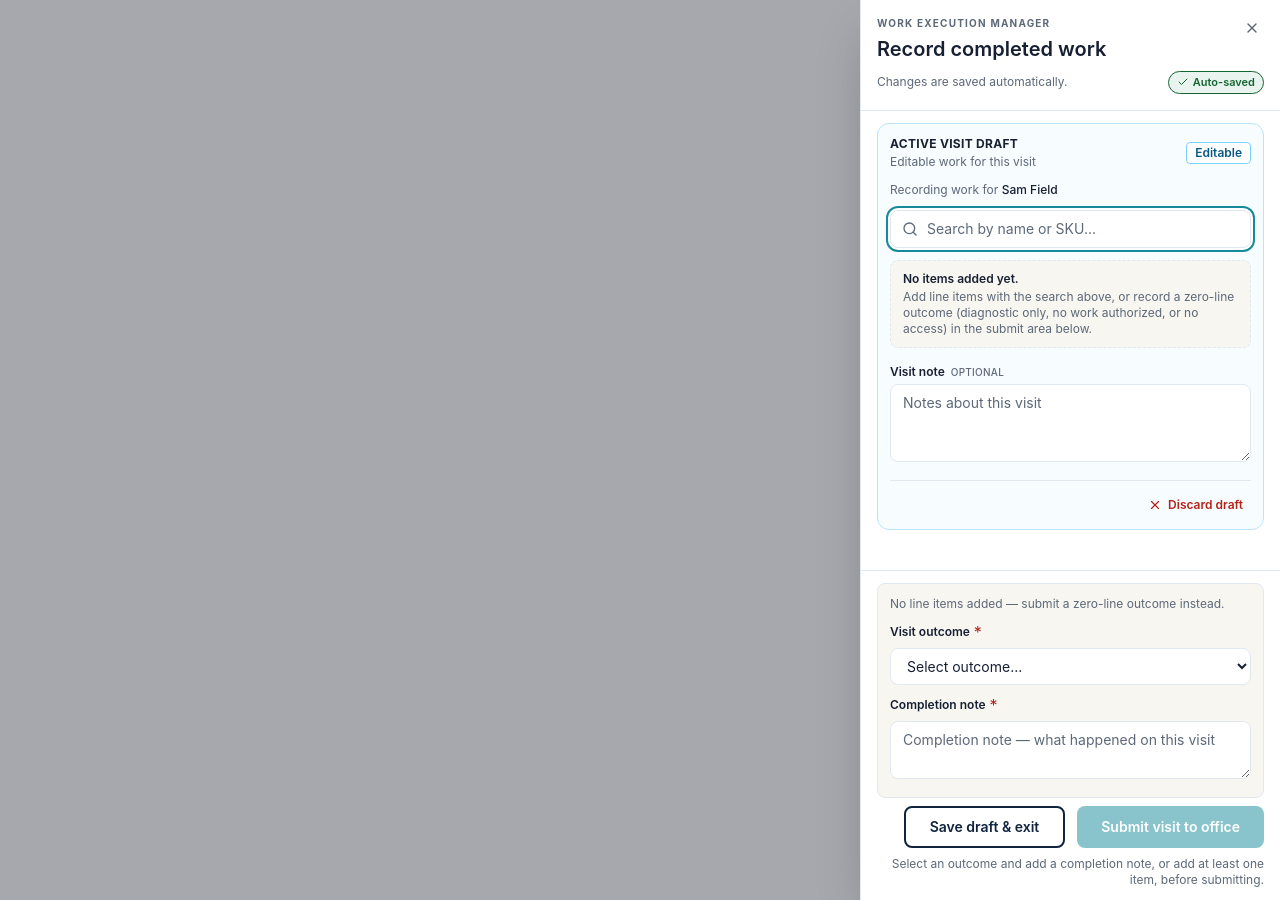
ActualWorkComposer › fetches and renders nudge suggestions after adding a catalog line
In the dropdown with placeholder "Search by name or SKU...": (1070, 228) [890, 210, 1251, 248], type "filter"
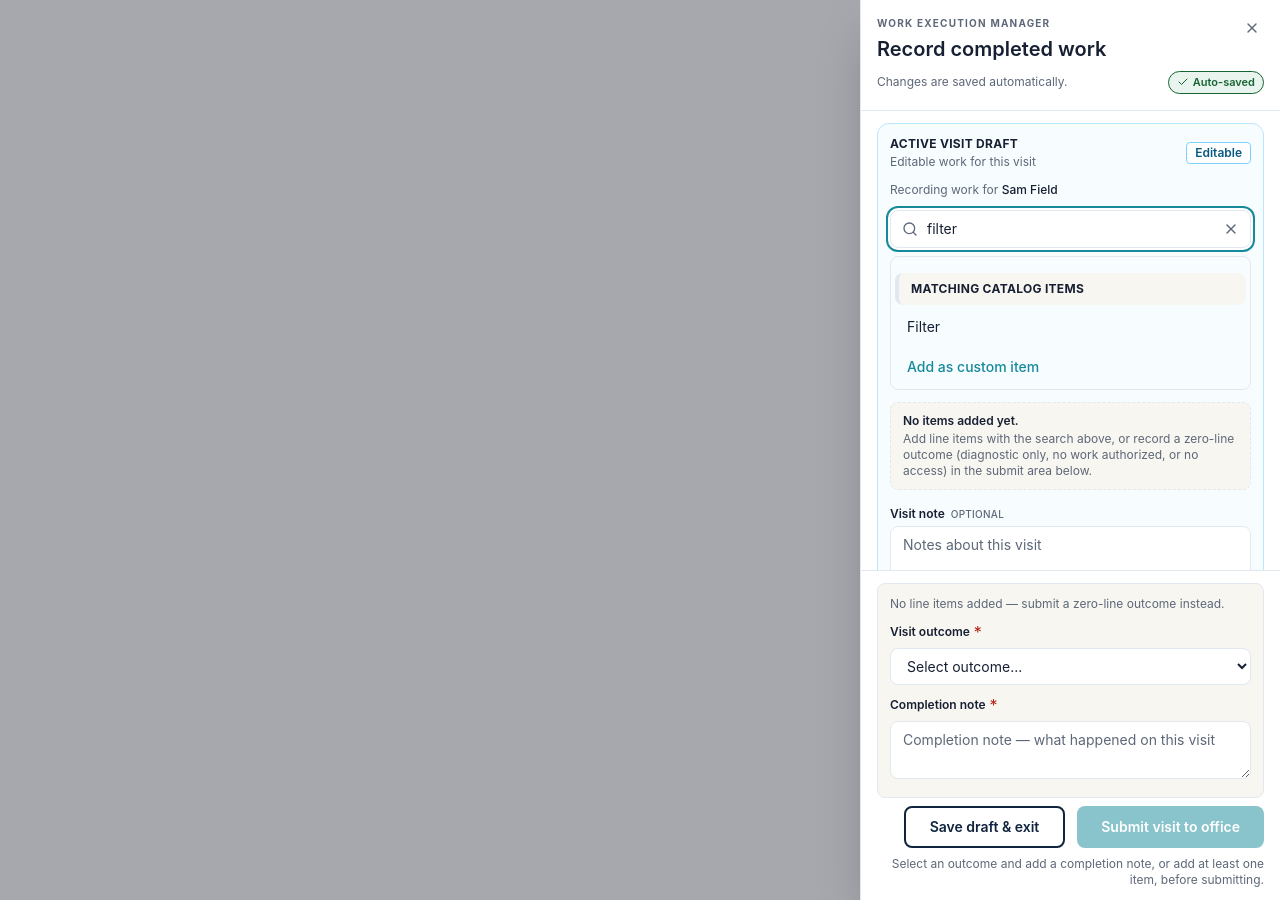
Click the option "Filter": (924, 326) [907, 318, 940, 334]
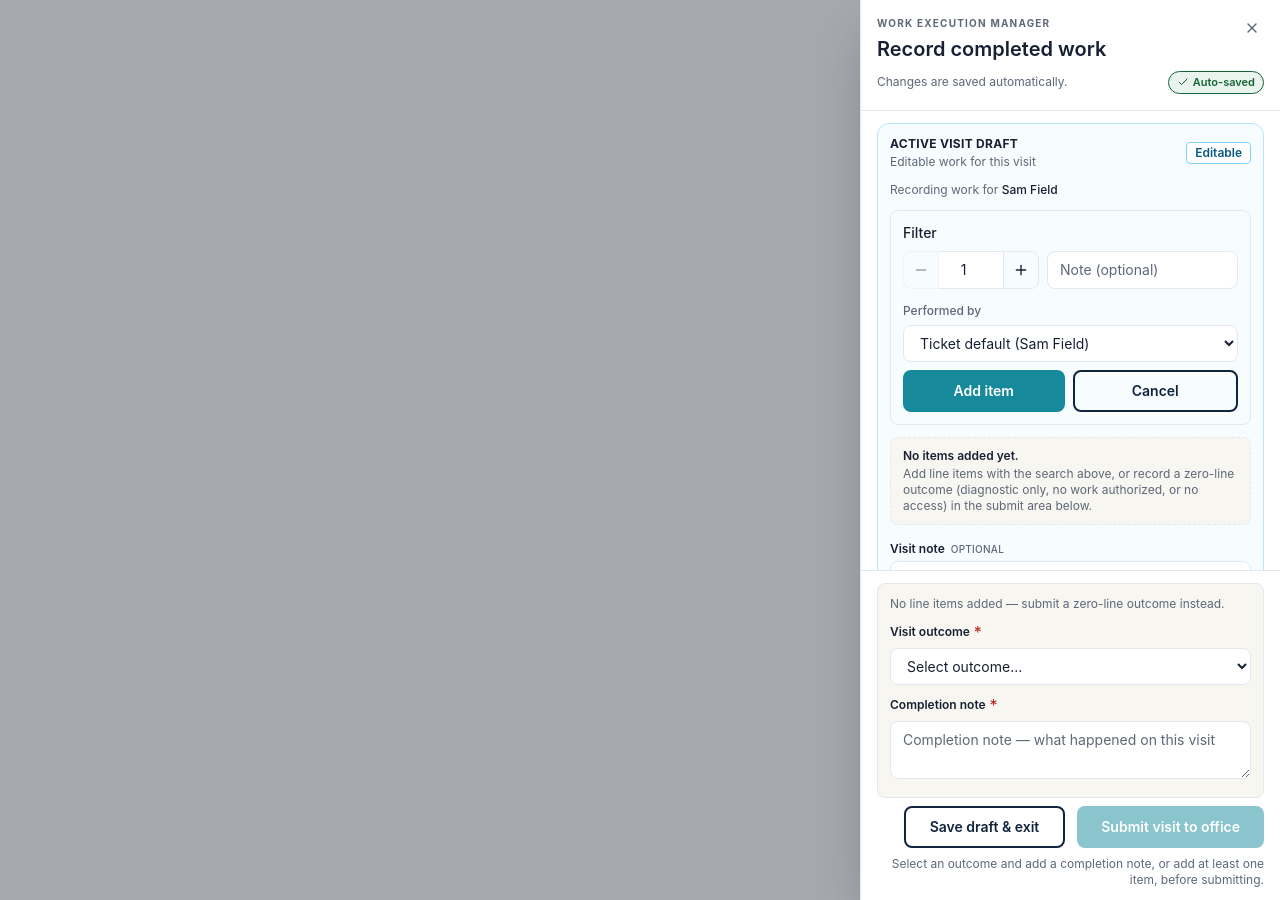
Click the button "Add item": (984, 390) [903, 370, 1064, 412]
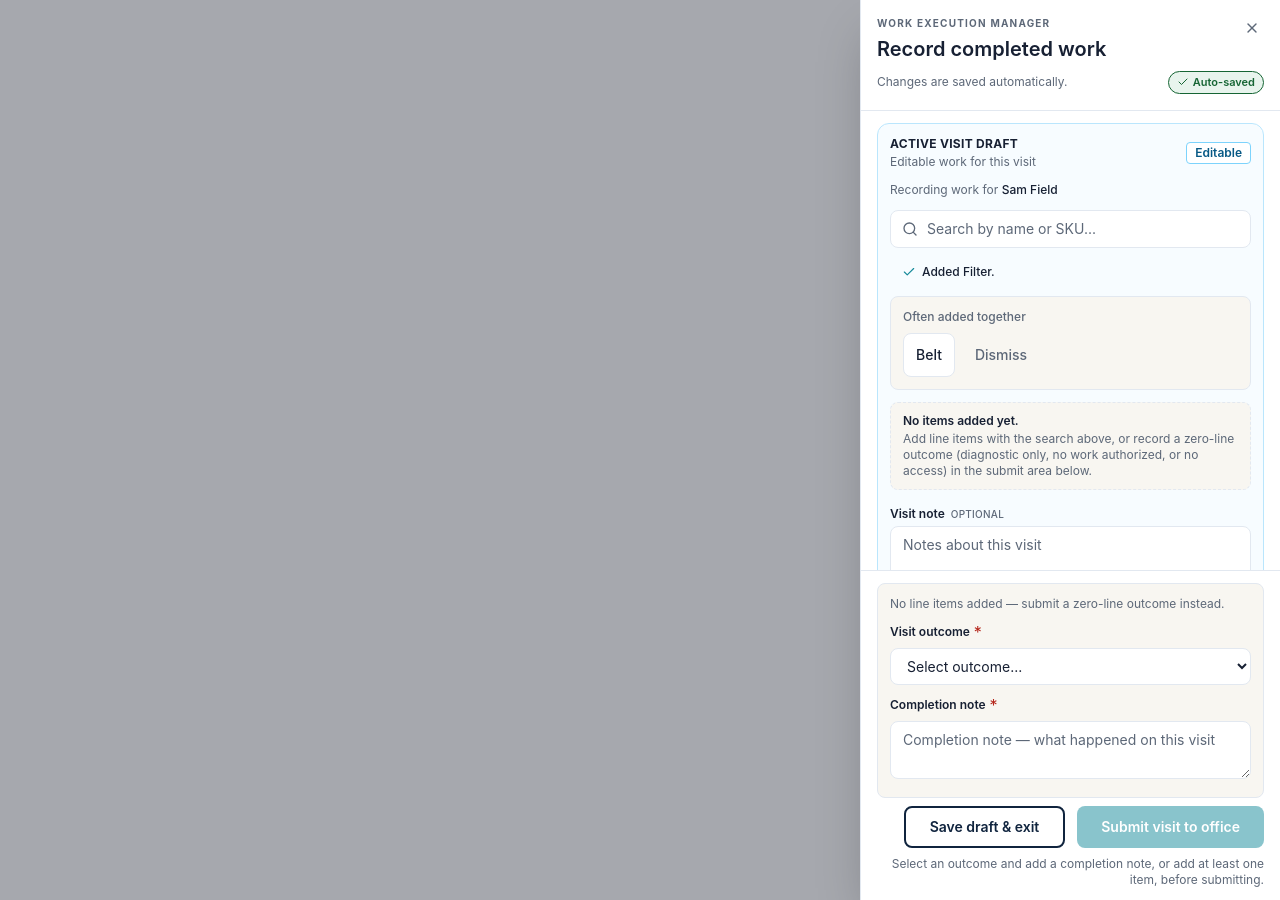
Expected: the text "Often added together" is shown, [903, 308, 1026, 324]
Expected: the button "Belt" is shown, [903, 332, 955, 376]
